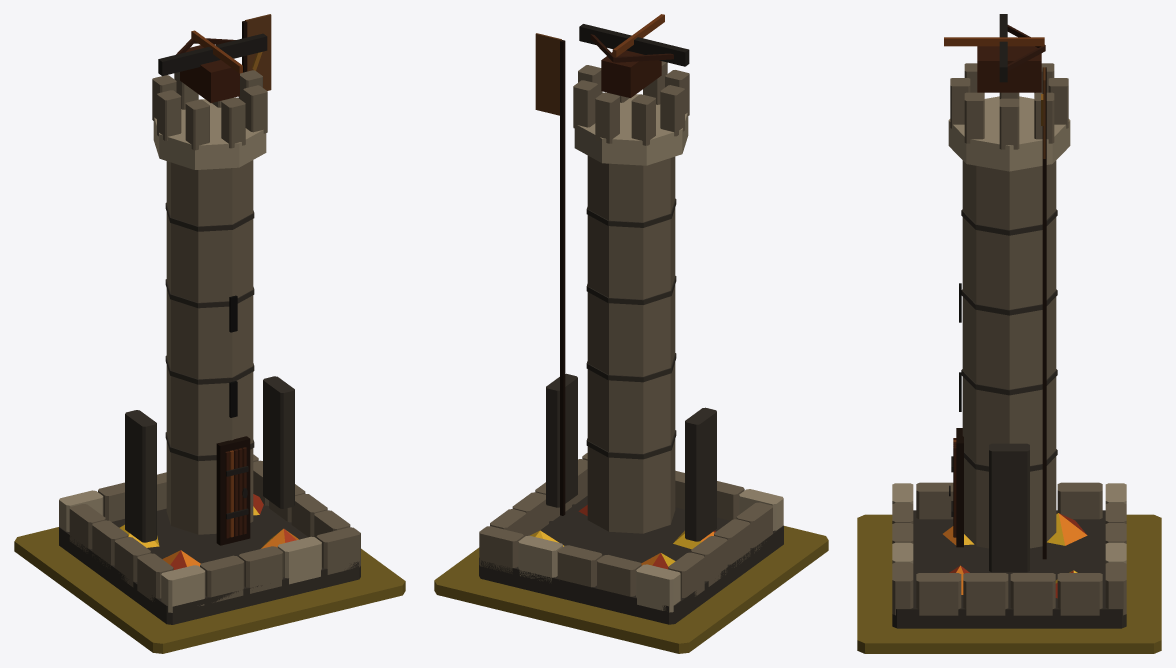
Rendered from ballista_t4.glb.
3 renders of one model, left to right at view 1: azimuth 30°, elevation 25°; view 2: azimuth 150°, elevation 25°; view 3: azimuth 270°, elevation 25°, orthographic. The views are drawn at different scales.
Visible parts, largest first — view 1: MMR | ballista | T04 Architecture.001, MMR | ballista | Tier 04 Ground.001, MMR | ballista | T04 Banner Flag 1.001, MMR | ballista | T04 Autumn Dressing.001; view 2: MMR | ballista | T04 Architecture.001, MMR | ballista | Tier 04 Ground.001, MMR | ballista | T04 Banner Flag 1.001, MMR | ballista | T04 Autumn Dressing.001; view 3: MMR | ballista | T04 Architecture.001, MMR | ballista | Tier 04 Ground.001, MMR | ballista | T04 Autumn Dressing.001.
Boxes of the visible parts, x1=… form: MMR | ballista | T04 Architecture.001: x1=59, y1=21, x2=360, y2=624; MMR | ballista | Tier 04 Ground.001: x1=14, y1=527, x2=405, y2=653; MMR | ballista | T04 Banner Flag 1.001: x1=245, y1=14, x2=271, y2=90; MMR | ballista | T04 Autumn Dressing.001: x1=119, y1=494, x2=298, y2=569; MMR | ballista | T04 Architecture.001: x1=479, y1=14, x2=783, y2=624; MMR | ballista | Tier 04 Ground.001: x1=434, y1=526, x2=828, y2=653; MMR | ballista | T04 Banner Flag 1.001: x1=535, y1=33, x2=561, y2=115; MMR | ballista | T04 Autumn Dressing.001: x1=530, y1=505, x2=715, y2=569; MMR | ballista | T04 Architecture.001: x1=892, y1=14, x2=1126, y2=628; MMR | ballista | Tier 04 Ground.001: x1=857, y1=514, x2=1161, y2=653; MMR | ballista | T04 Autumn Dressing.001: x1=943, y1=513, x2=1087, y2=598.
Size of the model in its own units: 1.3 by 2.6 by 1.3.
Materials: 1 (1 with a texture image).
